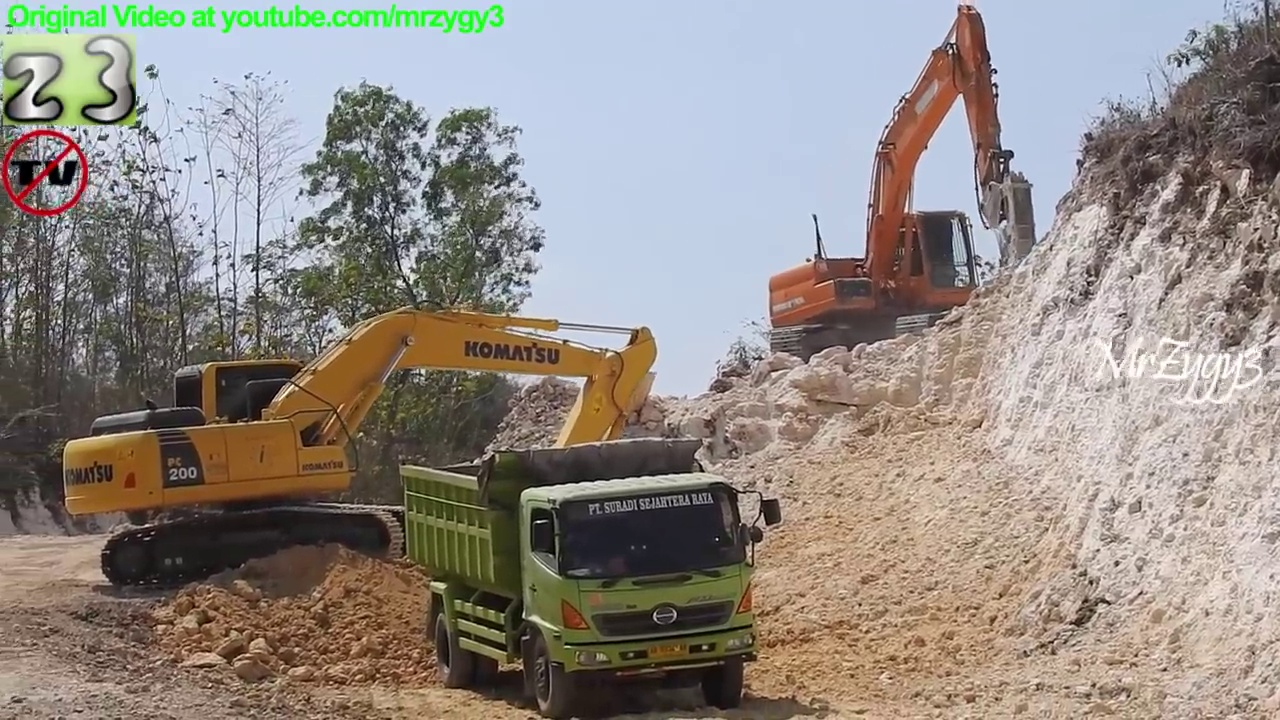excavator: (58, 302, 668, 598), (760, 2, 1046, 365)
truck: (398, 433, 789, 720)
